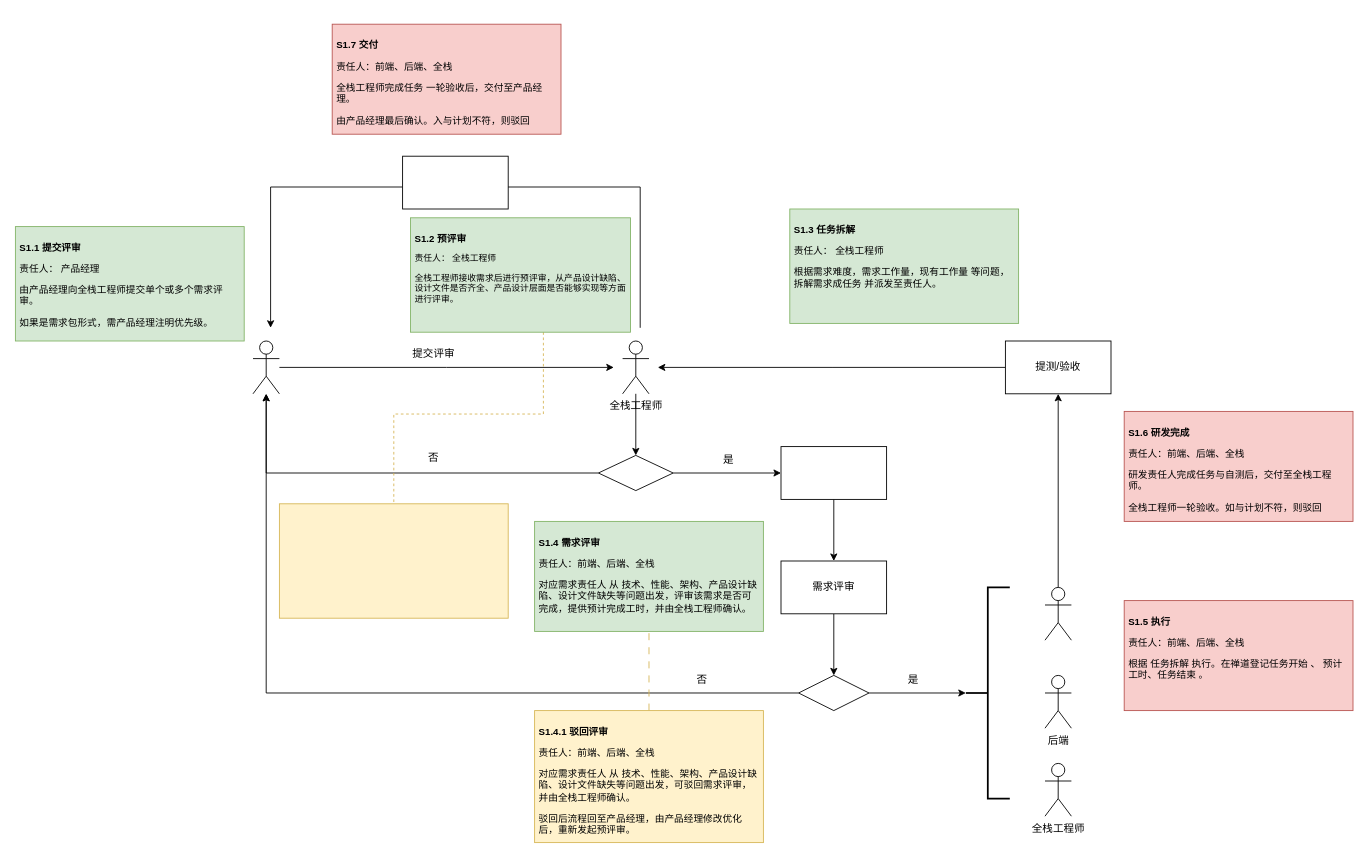
This 1368x858 diagram has some shape labels left out. The box of each missing label's shape, as (x1, y1, x2, y2) in pixels:
S1.2.1 驳回预评审 责任人： 全栈工程师 因产品设计缺陷、设计文件缺失等问题 全栈工程师 可驳回需求预评审，并提出驳回原因。: (279, 503, 508, 618)
交付/验收: (402, 155, 508, 209)
产品经理: (252, 340, 279, 394)
任务拆解: (780, 446, 887, 499)
前端: (1044, 587, 1071, 640)
是否通过评审: (798, 675, 869, 711)
是否通过预评审: (598, 455, 673, 491)
